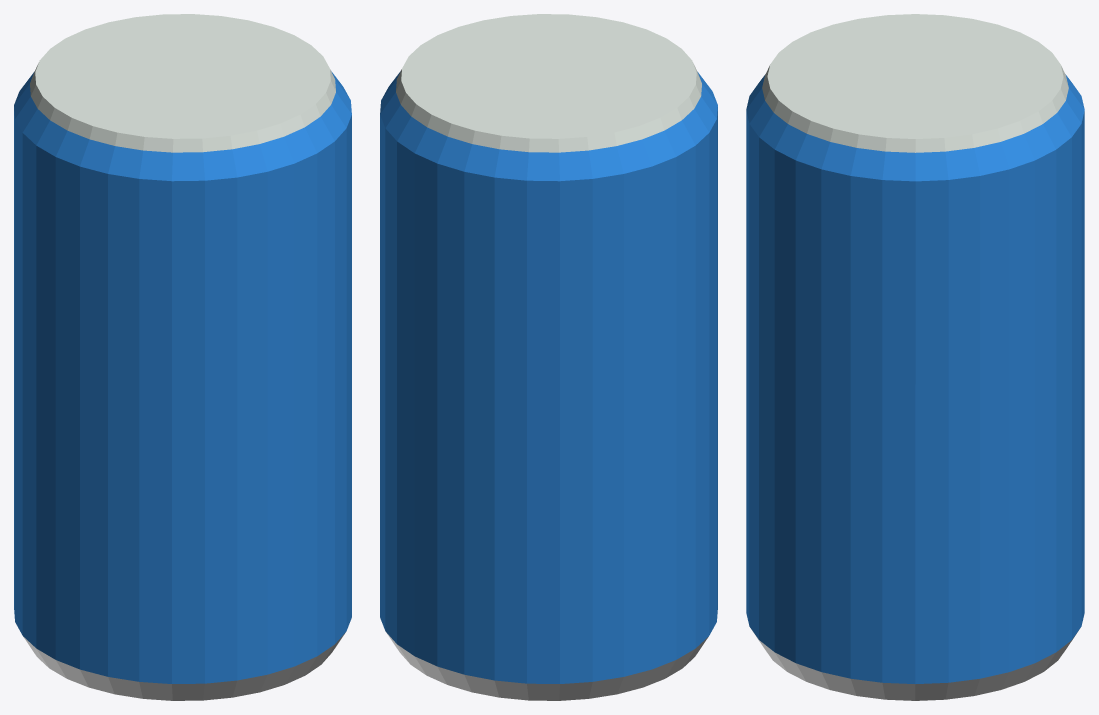
File: bluecan.fbx
3 views of the same model, side by side, from view 1: azimuth 30°, elevation 25°; view 2: azimuth 150°, elevation 25°; view 3: azimuth 270°, elevation 25° (orthographic).
Visible parts, largest first — view 1: Cylinder; view 2: Cylinder; view 3: Cylinder.
Part boxes in pixels (bbox=[...]): Cylinder: bbox=[14, 14, 351, 700]; Cylinder: bbox=[380, 14, 717, 700]; Cylinder: bbox=[746, 14, 1084, 700].
Bounding box in the file's own units: 200 × 365 × 200.
